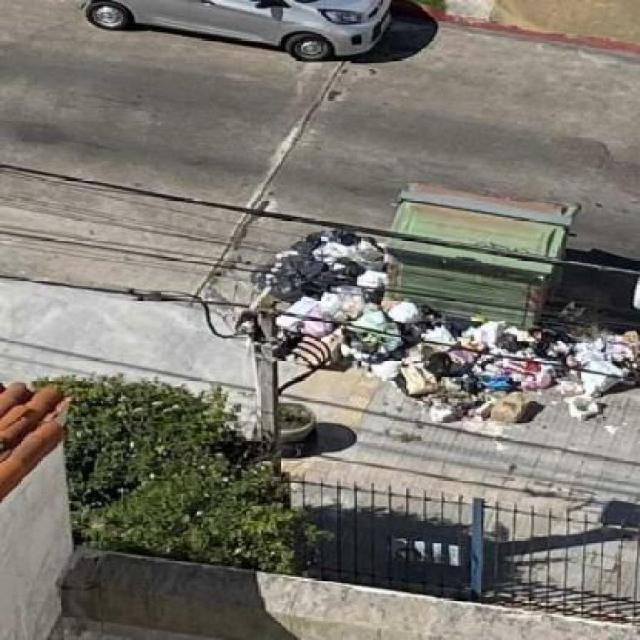garbage: (286, 322, 633, 400), (431, 329, 640, 433), (260, 222, 382, 328)
